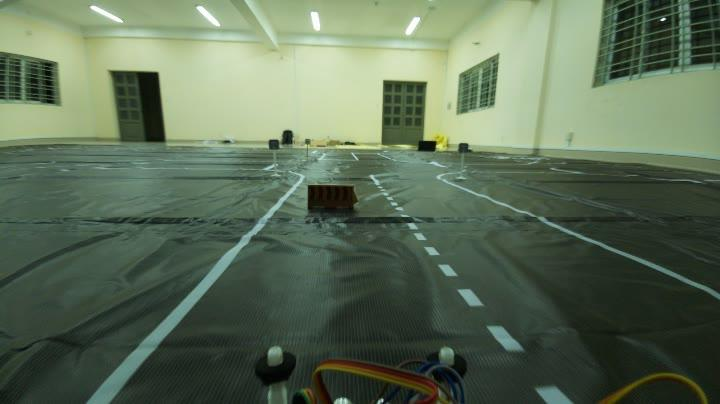roadblock: (303, 179, 360, 216)
